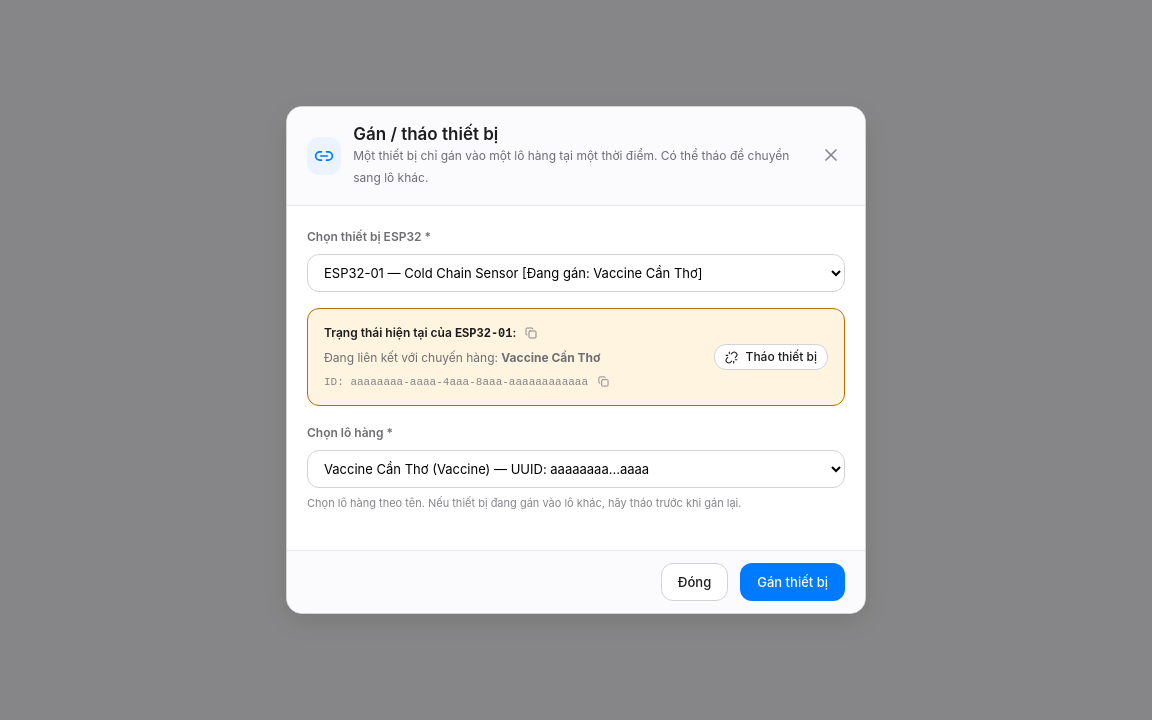
Scenario: device linking lifecycle › retains the current link and displays the backend error via Toast only when unlinking fails
The image size is (1152, 720).
Click the button "Tháo thiết bị". click: x=771, y=357
box: x1=714 y1=344 x2=828 y2=370
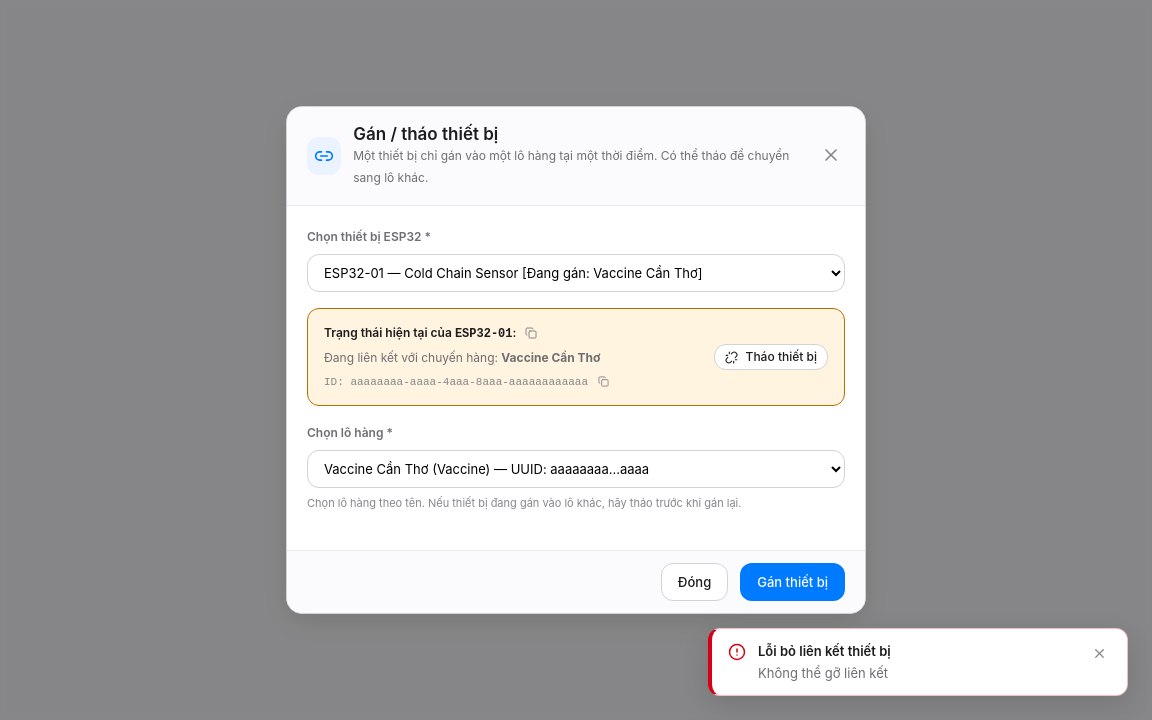
Expected: the message shows "Không thể gỡ liên kết", x1=758 y1=665 x2=888 y2=681
Expected: the text "Không thể gỡ liên kết" is shown once, x1=758 y1=665 x2=888 y2=681
